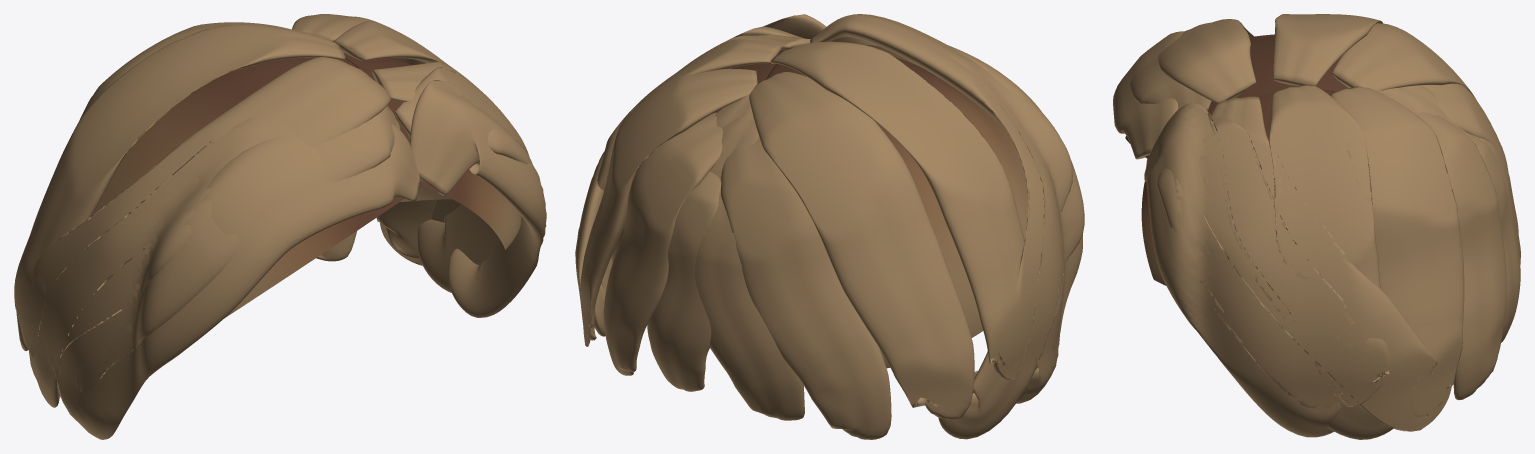
Rendered from Masculine-flow-pashmina260-hair-ombre.glb.
The picture shows the model from 3 angles, left to right: view 1: azimuth 30°, elevation 25°; view 2: azimuth 150°, elevation 25°; view 3: azimuth 270°, elevation 25°; orthographic projection. The views are drawn at different scales.
Parts seen in each view (by area): view 1: 226 hair / Hair260 / layered flow; view 2: 226 hair / Hair260 / layered flow; view 3: 226 hair / Hair260 / layered flow.
Boxes of the visible parts, <box> form: 226 hair / Hair260 / layered flow: <box>14,14,546,439</box>; 226 hair / Hair260 / layered flow: <box>575,14,1084,439</box>; 226 hair / Hair260 / layered flow: <box>1113,14,1520,439</box>.
Size of the model in its own units: 1.07 by 0.7622 by 0.87.
